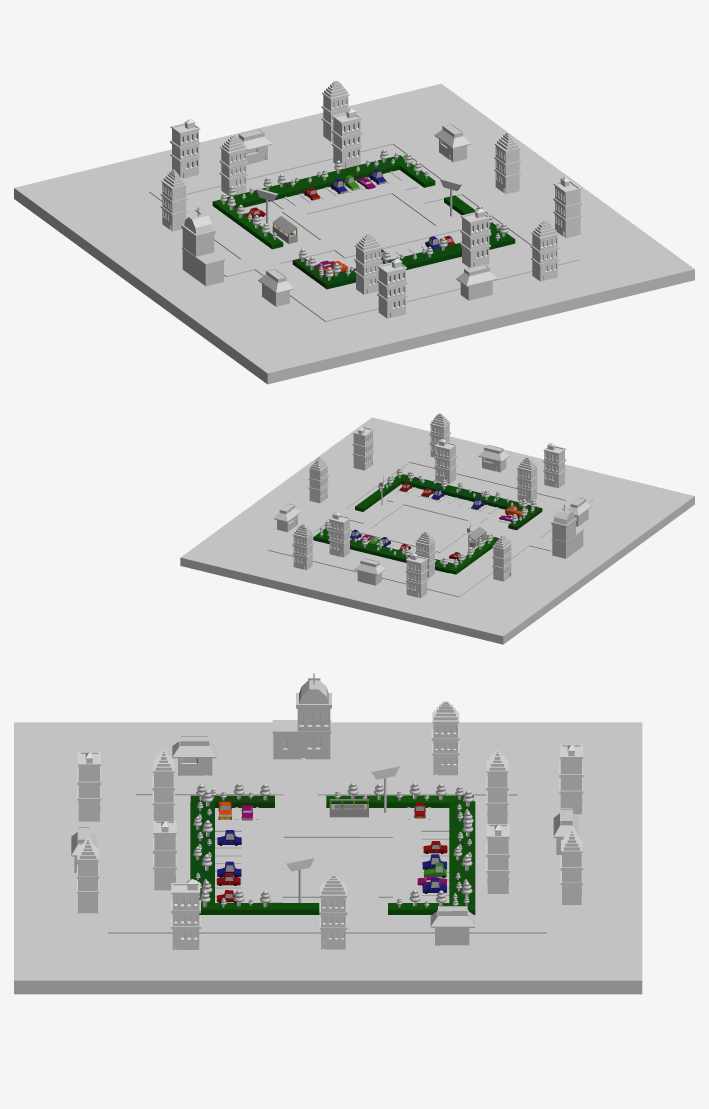
File: PARKING V1,0.fbx
The picture shows the model from 3 angles, top to bottom: view 1: azimuth 30°, elevation 25°; view 2: azimuth 150°, elevation 25°; view 3: azimuth 270°, elevation 25°; orthographic projection. The views are drawn at different scales.
Visible parts, largest first — view 1: Cube, Cube.089, Cube.086, Cube.008, Cube.082, Cube.083, Cube.080, Cube.081, Cube.084, Cube.078, Cube.042, Cube.003 (+9 smaller); view 2: Cube, Cube.089, Cube.086, Cube.006, Cube.081, Cube.080, Cube.082, Cube.083, Cube.079, Cube.008, Cube.084, Cube.077 (+10 smaller); view 3: Cube, Cube.089, Cube.086, Cube.008, Cube.084, Cube.085, Cube.003, Cube.082, Cube.006, Cube.080, Cube.081, Cube.083 (+11 smaller).
Part boxes in pixels (bbox=[...]): Cube: bbox=[14, 83, 694, 384]; Cube.089: bbox=[149, 130, 579, 321]; Cube.086: bbox=[181, 207, 224, 286]; Cube.008: bbox=[226, 157, 399, 208]; Cube.082: bbox=[377, 258, 407, 318]; Cube.083: bbox=[460, 208, 490, 267]; Cube.080: bbox=[331, 108, 362, 168]; Cube.081: bbox=[170, 119, 200, 178]; Cube.084: bbox=[553, 177, 581, 238]; Cube.078: bbox=[530, 220, 559, 281]; Cube.042: bbox=[219, 135, 247, 196]; Cube.003: bbox=[494, 132, 520, 194]; Cube: bbox=[180, 417, 694, 644]; Cube.089: bbox=[268, 452, 593, 597]; Cube.086: bbox=[551, 504, 583, 558]; Cube.006: bbox=[401, 476, 531, 510]; Cube.081: bbox=[405, 553, 428, 598]; Cube.080: bbox=[328, 512, 351, 557]; Cube.082: bbox=[543, 443, 566, 488]; Cube.083: bbox=[434, 439, 457, 484]; Cube.079: bbox=[292, 524, 313, 570]; Cube.008: bbox=[322, 535, 454, 573]; Cube.084: bbox=[352, 426, 374, 470]; Cube.077: bbox=[516, 457, 537, 503]; Cube: bbox=[14, 722, 642, 994]; Cube.089: bbox=[108, 762, 547, 933]; Cube.086: bbox=[272, 673, 331, 759]; Cube.008: bbox=[449, 801, 475, 903]; Cube.084: bbox=[171, 879, 200, 949]; Cube.085: bbox=[431, 701, 459, 775]; Cube.003: bbox=[319, 875, 347, 949]; Cube.082: bbox=[77, 752, 101, 821]; Cube.006: bbox=[190, 802, 214, 902]; Cube.080: bbox=[486, 824, 509, 893]; Cube.081: bbox=[559, 744, 583, 814]; Cube.083: bbox=[153, 821, 176, 890].
Size of the model in its own units: 35948 by 4156 by 27313.
